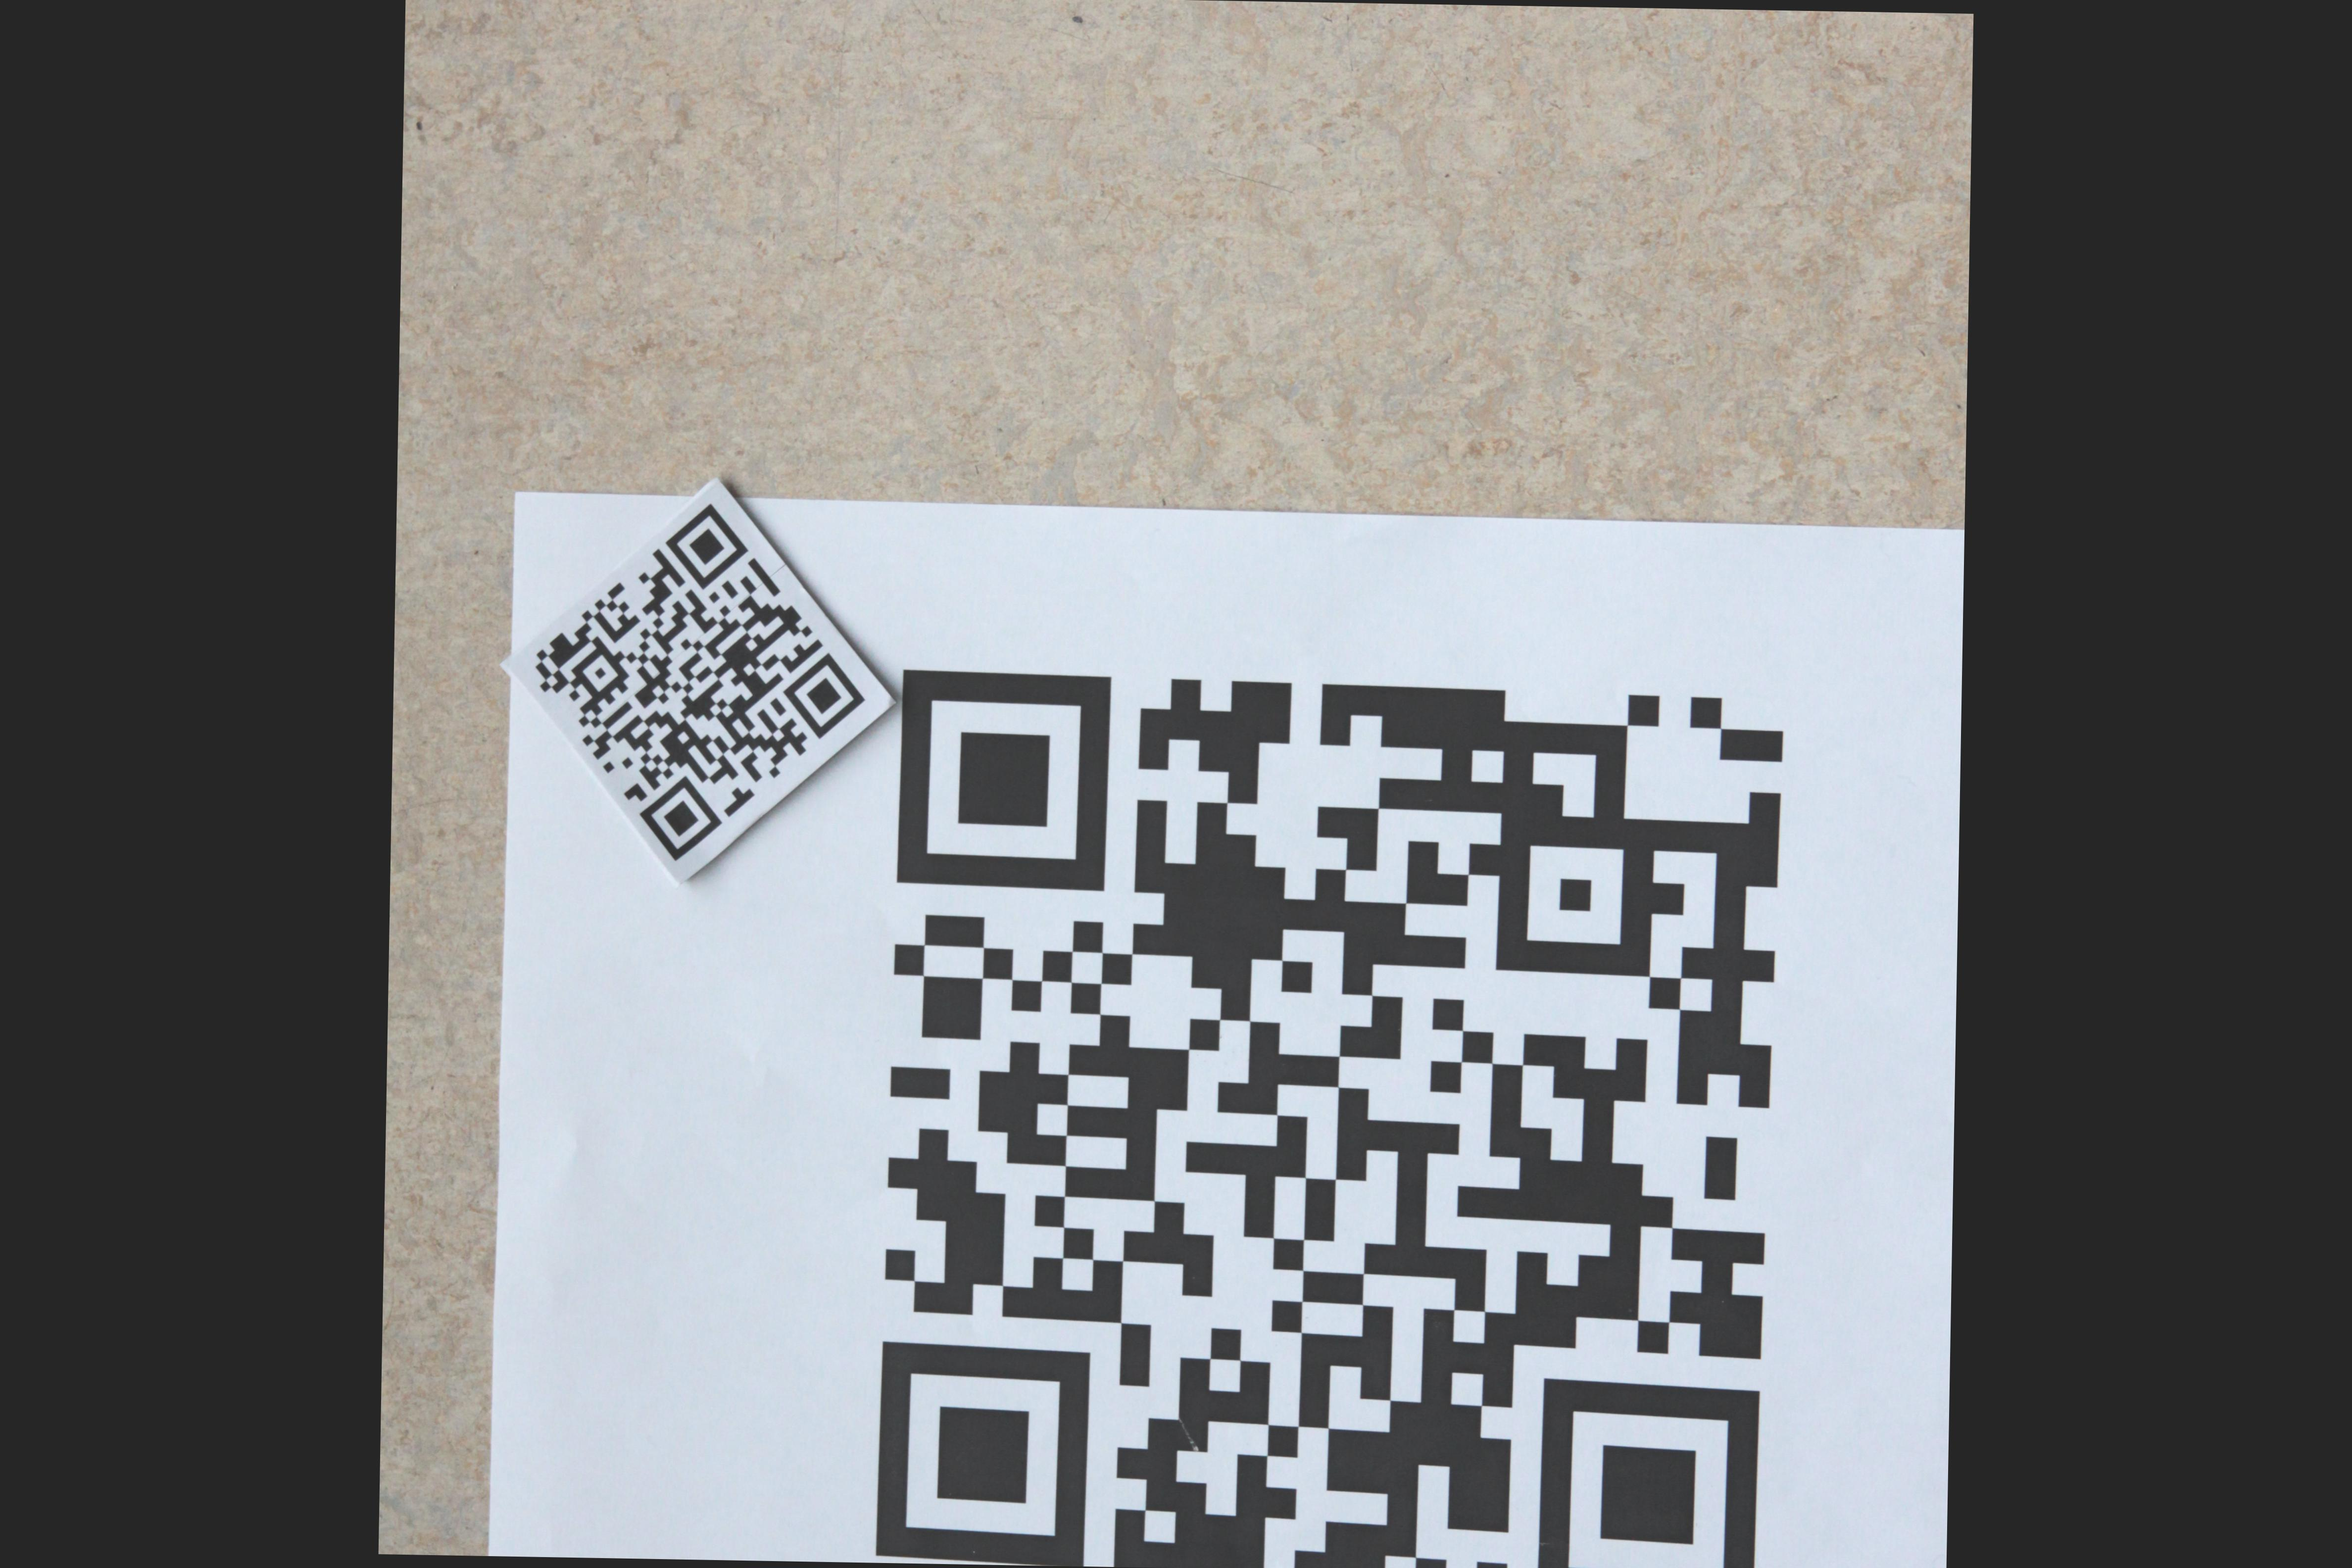QR: (868, 658, 1792, 1568), (514, 474, 882, 892)
